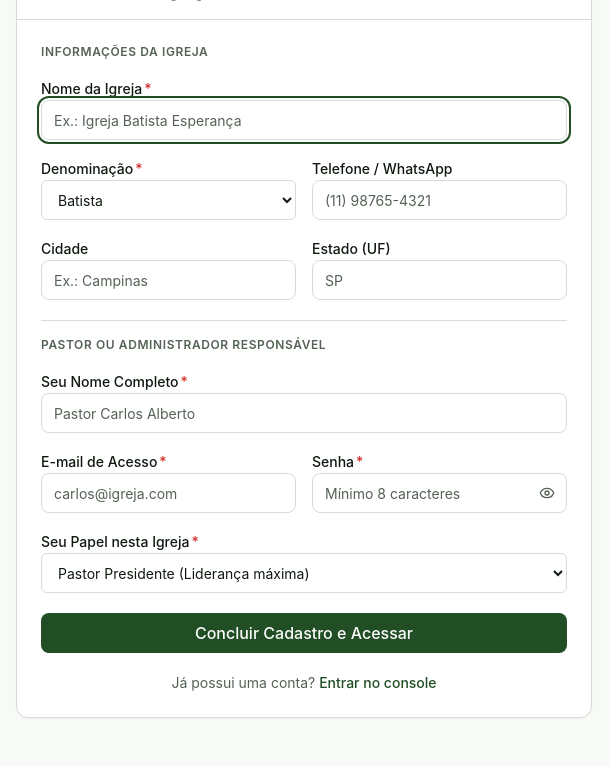
Test case: RegisterChurchPage › valida campos obrigatórios ao submeter vazio
(page scrolled)
Click the button "Concluir Cadastro e Acessar" at point(304, 633), box [41,613,567,653]
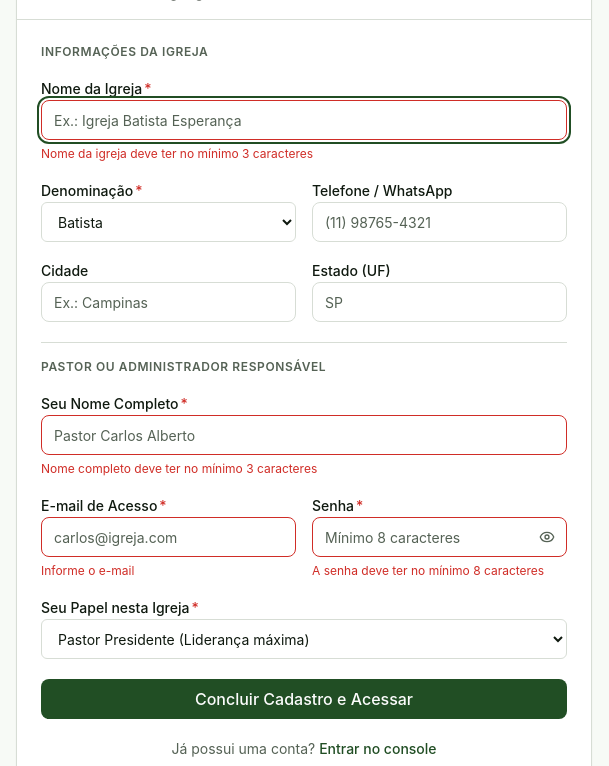
Expected: the text "Nome da igreja deve ter no mínimo 3 caracteres" is shown, [41,146,313,161]
Expected: the text "Nome completo deve ter no mínimo 3 caracteres" is shown, [41,461,317,476]
Expected: the text "Informe o e-mail" is shown, [41,563,134,578]
